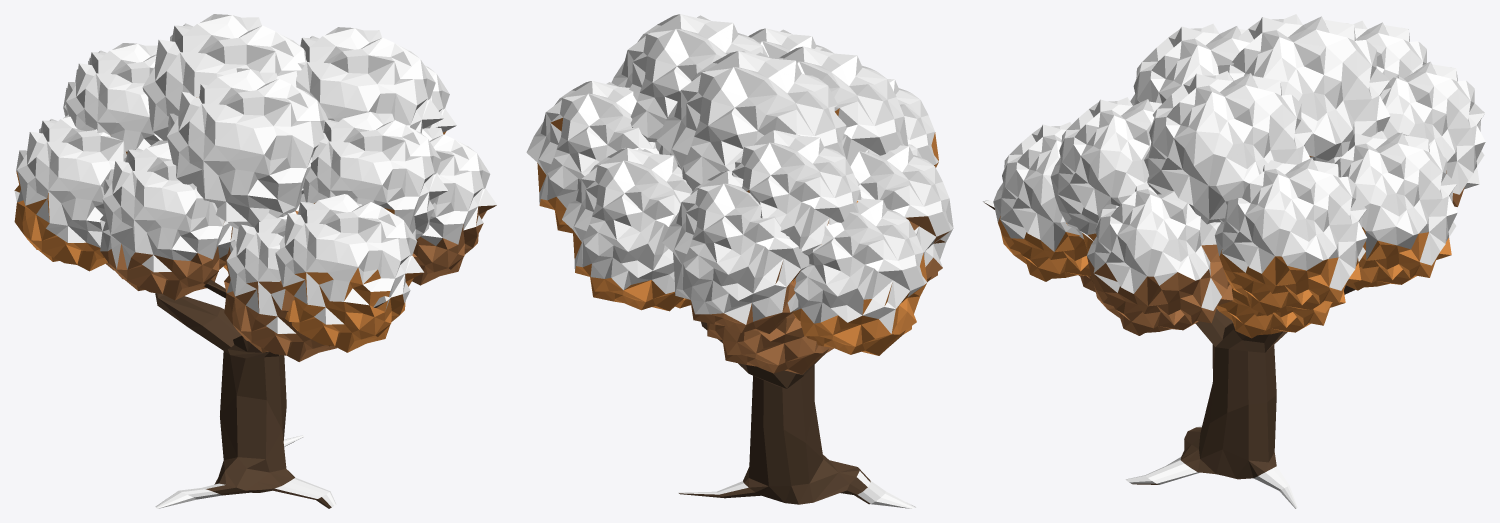
Rendered from winter tree 2.fbx.
3 views of the same model, side by side, from view 1: azimuth 30°, elevation 25°; view 2: azimuth 150°, elevation 25°; view 3: azimuth 270°, elevation 25° (orthographic). The views are drawn at different scales.
Parts seen in each view (by area): view 1: LowPoly Tree .046; view 2: LowPoly Tree .046; view 3: LowPoly Tree .046.
Boxes of the visible parts, x1,y1,x2,y2 form: LowPoly Tree .046: (14,14,496,508); LowPoly Tree .046: (526,14,953,508); LowPoly Tree .046: (982,14,1485,508).
Bounding box in the file's own units: 227 × 237 × 241.
